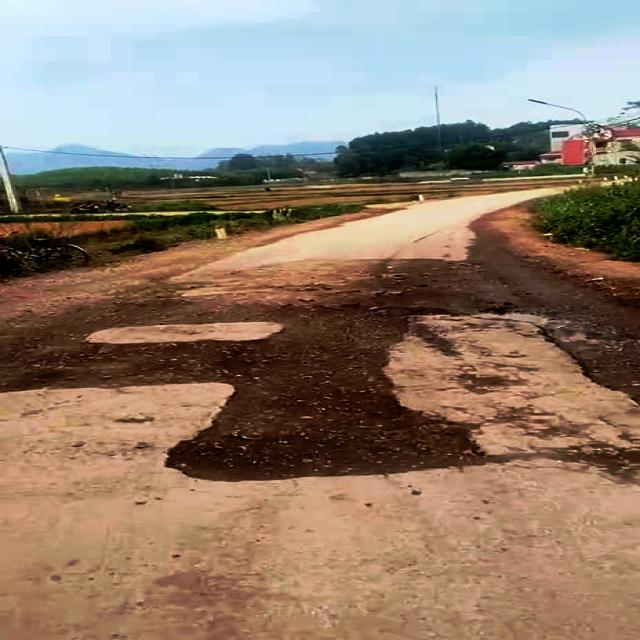pothole: (157, 335, 498, 482)
